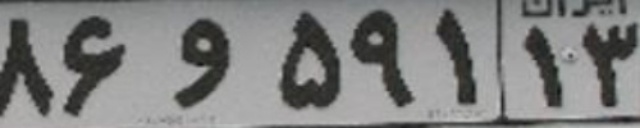1: (433, 7, 481, 102), (522, 25, 562, 106)
3: (581, 21, 636, 107)
5: (277, 13, 341, 109)
6: (62, 17, 125, 114)
8: (0, 17, 52, 115)
9: (351, 9, 413, 107)
vav: (169, 17, 232, 106)
